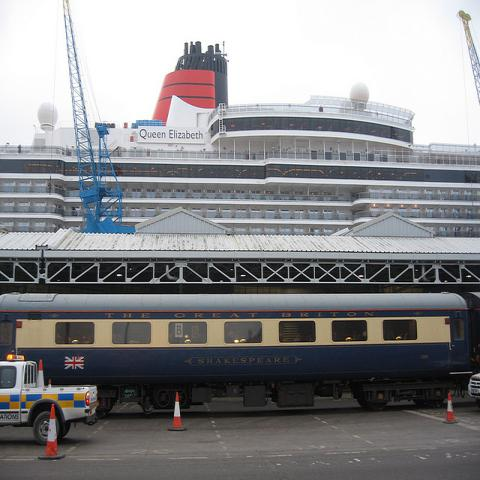car: (468, 372, 480, 399)
truck: (0, 354, 98, 445)
